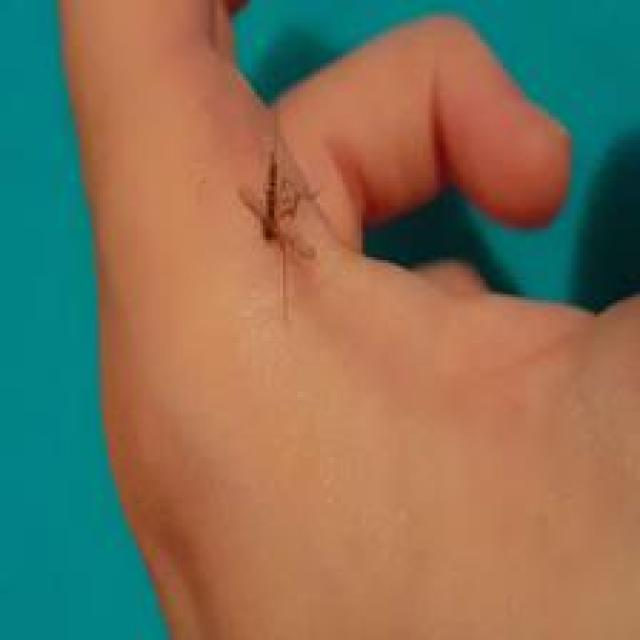Culex: (236, 137, 327, 323)
